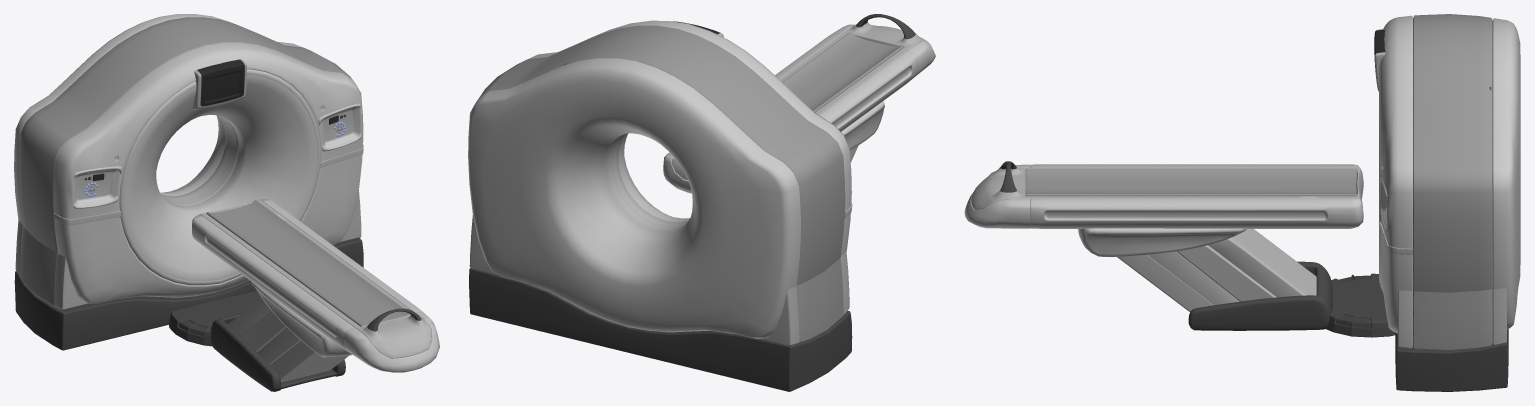
File: ct-scanner.glb
3 views of the same model, side by side, from view 1: azimuth 30°, elevation 25°; view 2: azimuth 150°, elevation 25°; view 3: azimuth 270°, elevation 25° (orthographic). The views are drawn at different scales.
Parts seen in each view (by area): view 1: Scanner_Main_lambert2_0, Scanner_Stand_lambert1_0; view 2: Scanner_Main_lambert2_0, Scanner_Stand_lambert1_0; view 3: Scanner_Main_lambert2_0, Scanner_Stand_lambert1_0.
Part boxes in pixels (x1,y1,x2,y2): Scanner_Main_lambert2_0: [14, 14, 363, 350]; Scanner_Stand_lambert1_0: [192, 199, 439, 391]; Scanner_Main_lambert2_0: [468, 20, 852, 391]; Scanner_Stand_lambert1_0: [663, 14, 935, 193]; Scanner_Main_lambert2_0: [1326, 14, 1520, 391]; Scanner_Stand_lambert1_0: [964, 161, 1363, 330].
Bounding box in the file's own units: 0.052 × 0.0427 × 0.0759.
2 materials, 2 textured.
